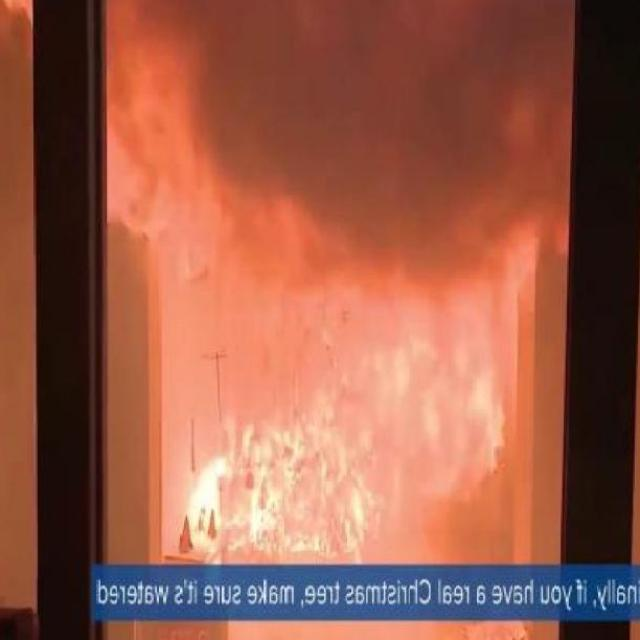smoke: (184, 412, 378, 560)
